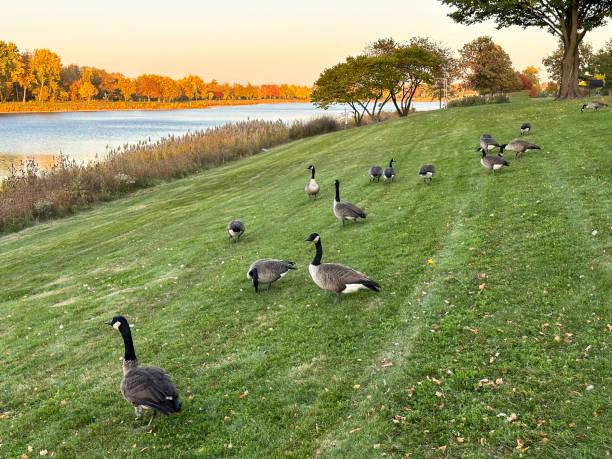Canadian-Goose: (100, 312, 186, 426), (306, 230, 382, 305), (246, 253, 296, 292), (329, 179, 366, 229), (475, 145, 507, 177), (498, 135, 539, 158), (305, 162, 321, 200), (224, 217, 246, 241), (577, 98, 607, 115), (417, 160, 437, 183), (477, 130, 498, 151), (384, 156, 397, 183), (514, 118, 535, 134), (370, 162, 380, 180)
